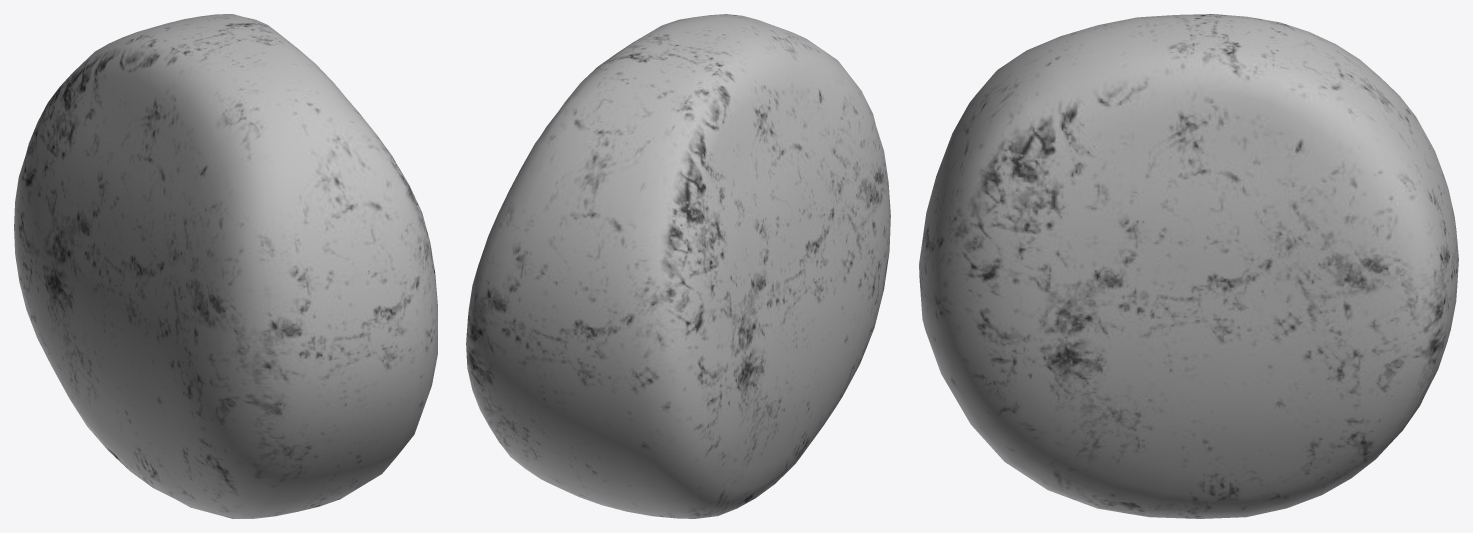
The model's file is Arm_Low.fbx.
The picture shows the model from 3 angles, left to right: view 1: azimuth 30°, elevation 25°; view 2: azimuth 150°, elevation 25°; view 3: azimuth 270°, elevation 25°; orthographic projection. The views are drawn at different scales.
Visible parts, largest first — view 1: Quad Sphere; view 2: Quad Sphere; view 3: Quad Sphere.
Part boxes in pixels (bbox=[...]): Quad Sphere: bbox=[14, 14, 437, 518]; Quad Sphere: bbox=[466, 14, 890, 518]; Quad Sphere: bbox=[919, 14, 1458, 518].
Size of the model in its own units: 57.29 by 101 by 106.
1 material, 1 textured.
